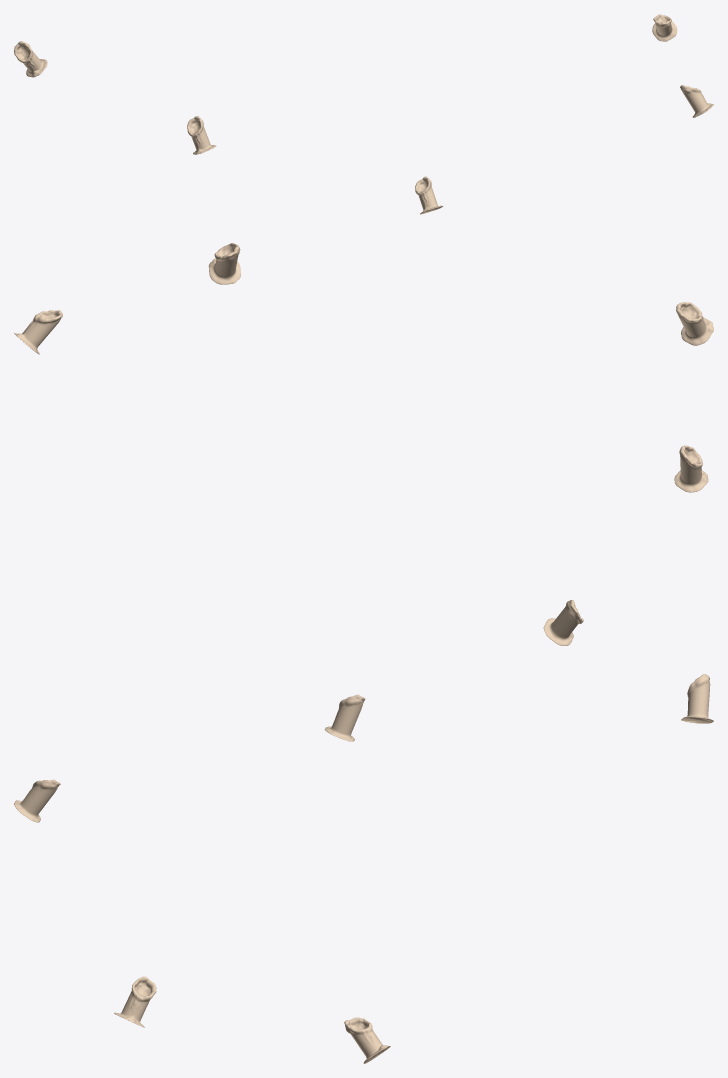
Rendered from GROUNDCANDLE.fbx.
3 renders of one model, top to bottom at view 1: azimuth 30°, elevation 25°; view 2: azimuth 150°, elevation 25°; view 3: azimuth 270°, elevation 25°, orthographic. The views are drawn at different scales.
Parts seen in each view (by area): view 1: Cylinder.013; view 2: Cylinder.013; view 3: Cylinder.013.
Boxes of the visible parts, x1,y1,x2,y2 form: Cylinder.013: (14, 14, 713, 214); Cylinder.013: (14, 243, 713, 645); Cylinder.013: (14, 674, 713, 1063).
Size of the model in its own units: 1962 by 150 by 1637.
